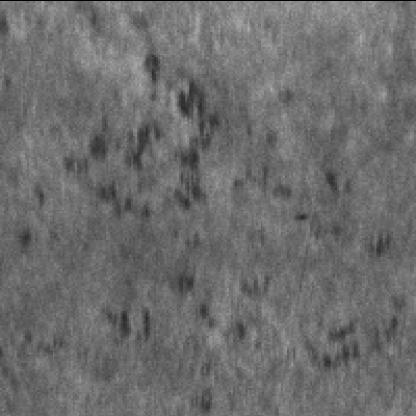rolled-in_scale: (104, 237, 402, 368), (56, 46, 216, 210)
